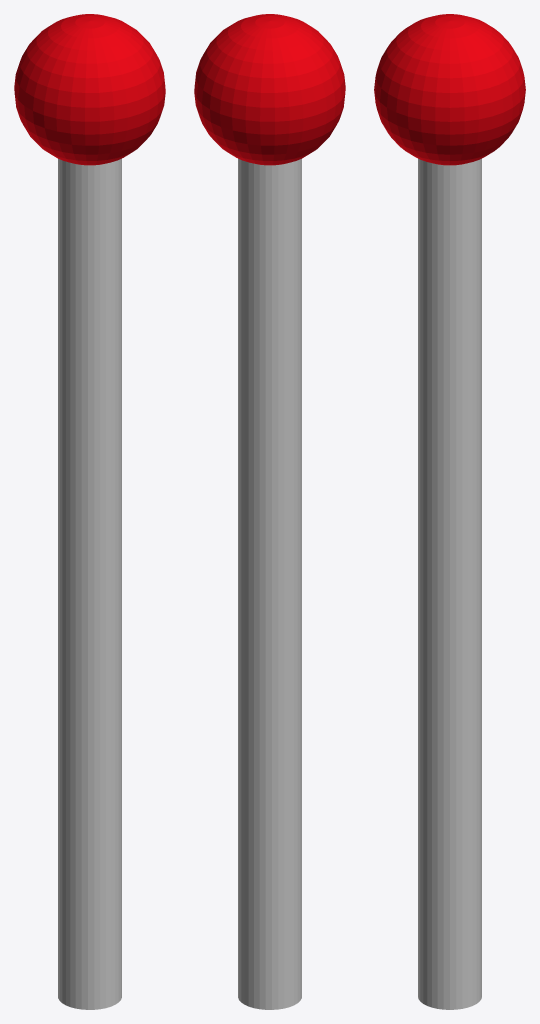
File: pinRojo.fbx
3 renders of one model, left to right at view 1: azimuth 30°, elevation 25°; view 2: azimuth 150°, elevation 25°; view 3: azimuth 270°, elevation 25°, orthographic.
Visible parts, largest first — view 1: hotspot, Sphere; view 2: hotspot, Sphere; view 3: hotspot, Sphere.
Part boxes in pixels (x1,y1,x2,y2): hotspot: [58, 158, 121, 1009]; Sphere: [14, 14, 165, 165]; hotspot: [238, 158, 301, 1009]; Sphere: [194, 14, 345, 165]; hotspot: [418, 158, 481, 1009]; Sphere: [374, 14, 525, 165].
Bounding box in the file's own units: 473 × 3351 × 473.
